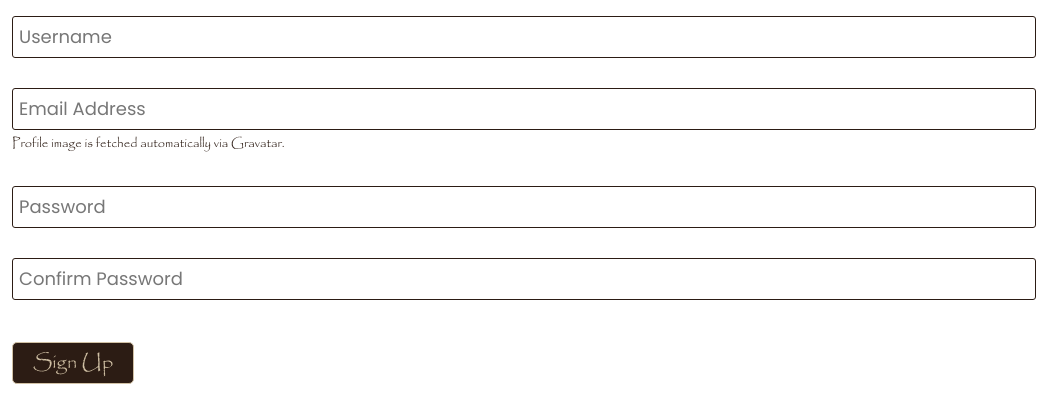
Scenario: Register Form › shows validation errors when submit with empty fields
Click the button "Sign Up": (73, 363) [12,342,134,384]
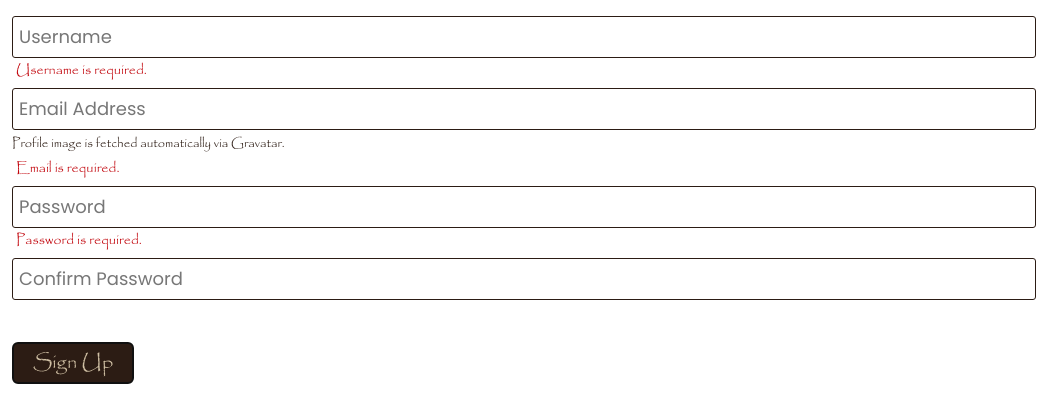
Expected: the text "Username is required." is shown, [16,59,147,81]
Expected: the text "Email is required." is shown, [16,157,119,179]
Expected: the text "Password is required." is shown, [16,229,142,251]
